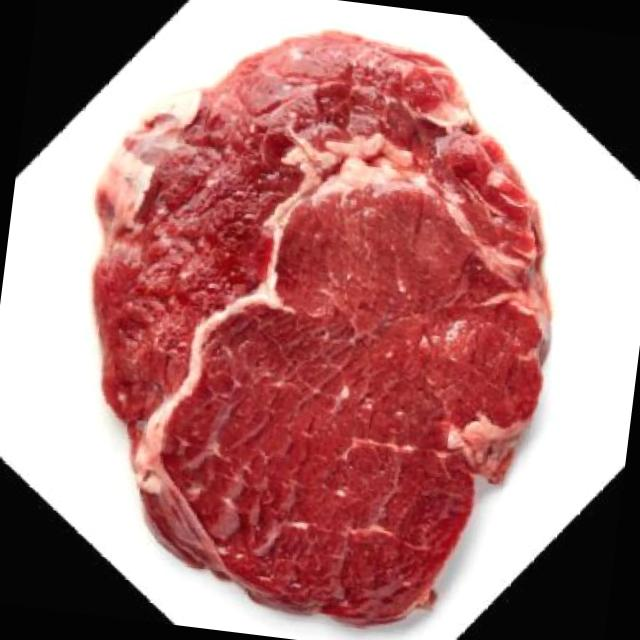beef: (45, 0, 595, 640)
